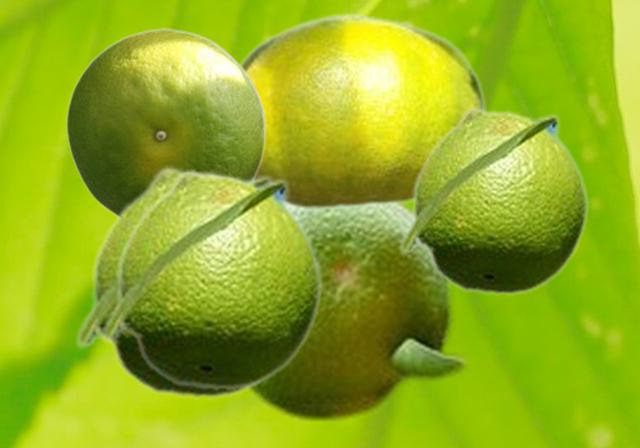dalandan: (99, 169, 323, 391), (238, 12, 485, 211), (246, 204, 471, 422), (73, 165, 274, 400), (65, 27, 265, 215), (397, 106, 589, 296)
